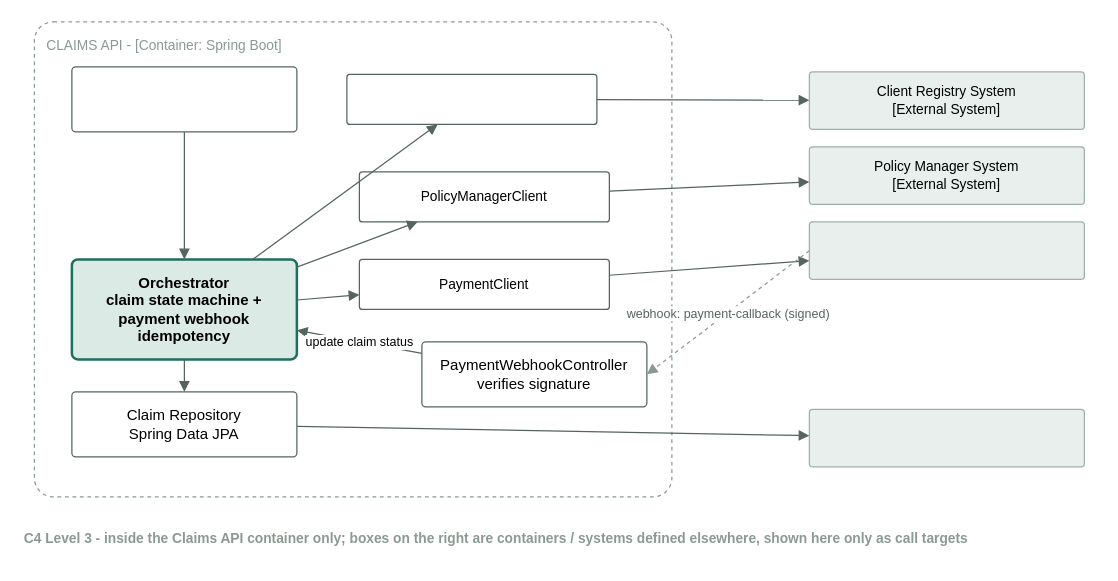
Image size: 1118x581. Some labels were removed from this diagram. The shapes that lost their labels are listed below. From the top down, each one's centre as x and y in pixels, then its label:
At [184,99]: "Controller REST endpoints".
At [471,98]: "ClientRegistryClient".
At [946,250]: "Payment System (3rd party) [External System]".
At [946,437]: "Claim Database [Container: RDS PostgreSQL]".
